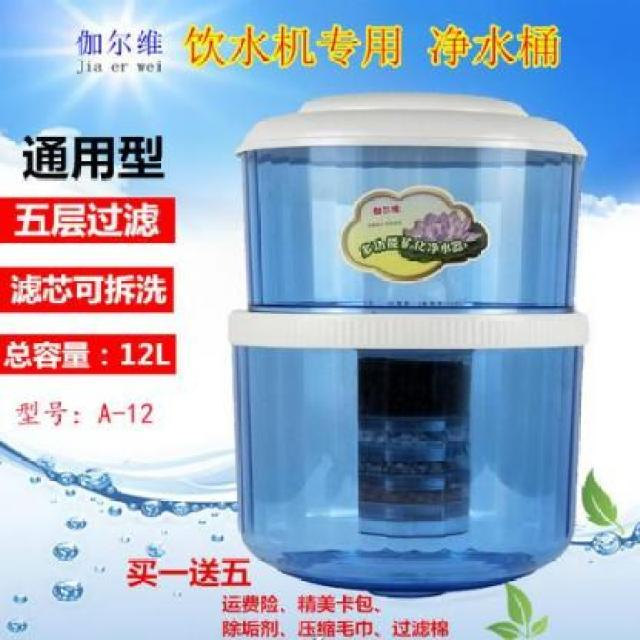coolerbottle: (226, 91, 597, 595)
